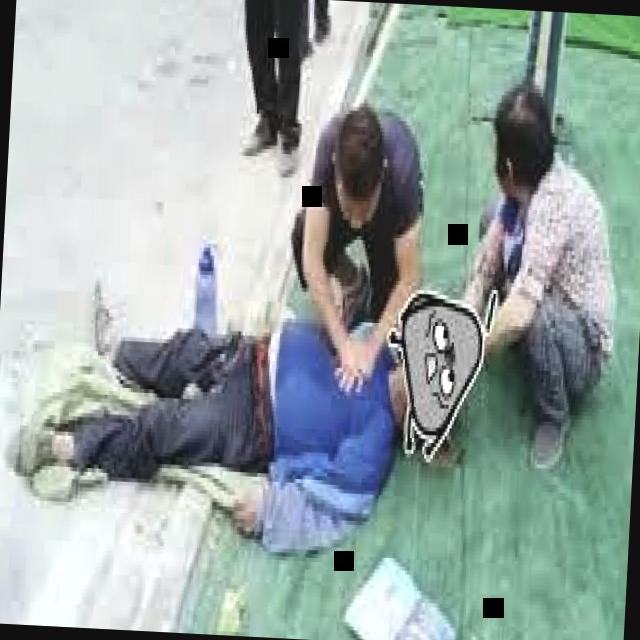Fall-Detected: (0, 241, 504, 571)
